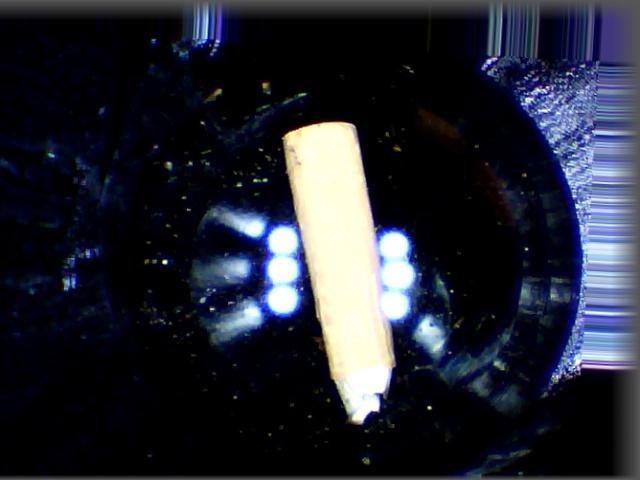megot: (257, 114, 428, 434)
